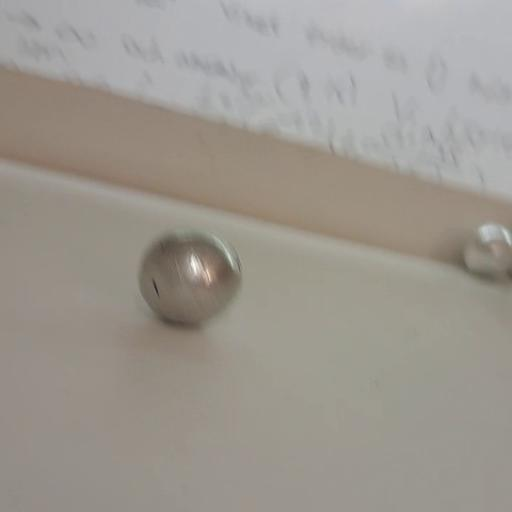alive: (138, 229, 243, 328), (463, 220, 512, 279)
